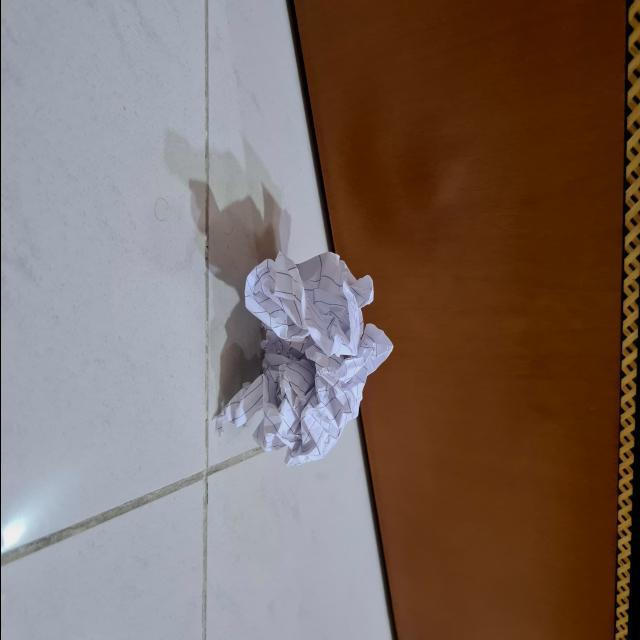Paper: (214, 243, 392, 466)
